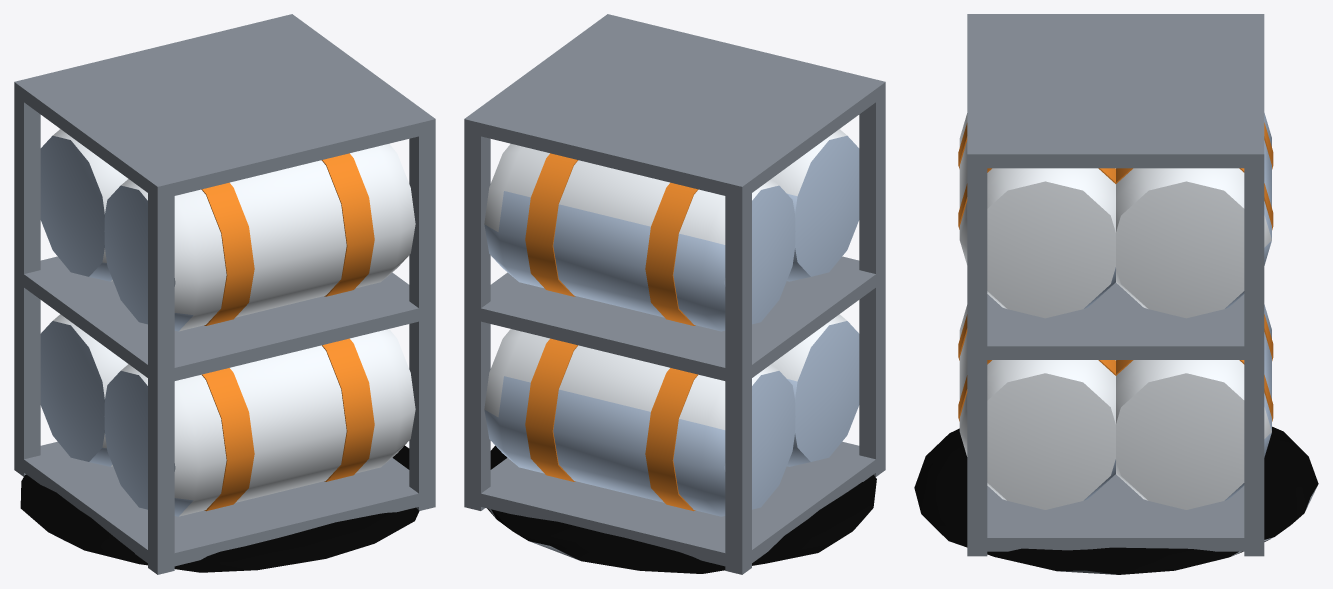
File: CargoStack.fbx
The picture shows the model from 3 angles, left to right: view 1: azimuth 30°, elevation 25°; view 2: azimuth 150°, elevation 25°; view 3: azimuth 270°, elevation 25°; orthographic projection. The views are drawn at different scales.
Visible parts, largest first — view 1: CargoStack; view 2: CargoStack; view 3: CargoStack.
Boxes of the visible parts, <box> form: CargoStack: <box>14,14,435,574</box>; CargoStack: <box>464,14,885,574</box>; CargoStack: <box>914,14,1318,574</box>.
Bounding box in the file's own units: 1.69 × 1.76 × 1.61.
1 material, 1 textured.
